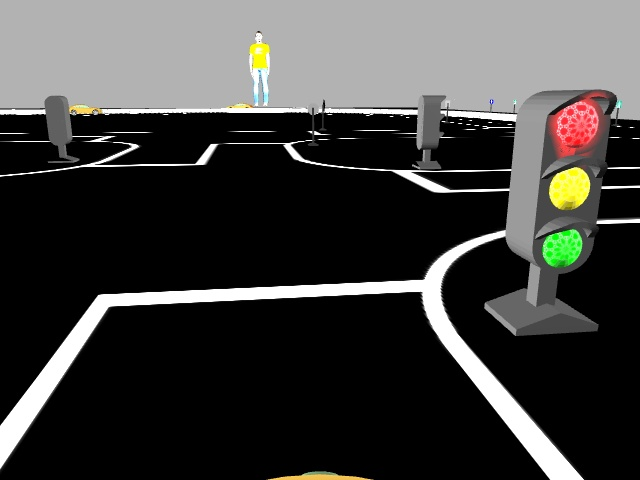TrafficLight: (503, 87, 616, 274)
